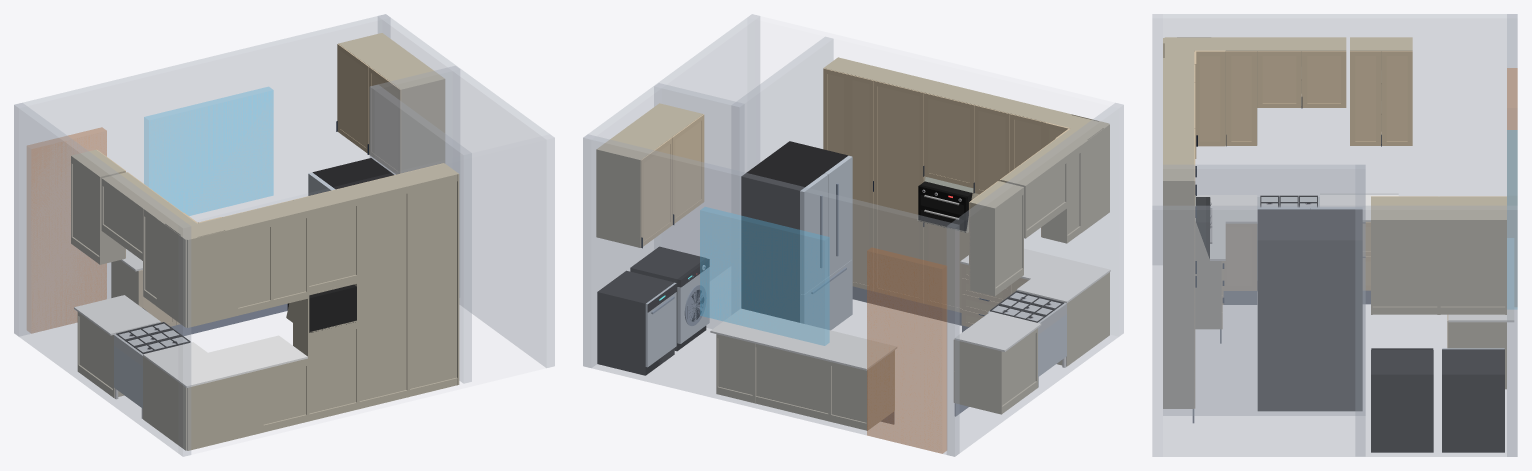
Rendered from Jacqueline.glb.
The picture shows the model from 3 angles, left to right: view 1: azimuth 30°, elevation 25°; view 2: azimuth 150°, elevation 25°; view 3: azimuth 270°, elevation 25°; orthographic projection. The views are drawn at different scales.
Parts seen in each view (by area): view 1: Mesh (×11), Backplane (×11), Corner_Back_Left (×2), Worktop (×3), Top_Solid_Cap (×6), Right (×2), Corner_Back_Right (×2), Door_1 (×2), Left (×4), Corner_Stile_2 (×2), Corner_Stile_1 (×2), Corner_Top_1 (+1 smaller); view 2: Mesh (×19), Door_1 (×8), Backplane (×7), Worktop (×4), Right (×3), Left (×2), Corner_Back_Right (×2), Top_Solid_Cap (×5), Door_2, Dor_Stile_R_1, Dor_Stile_L_0, Dor_Stile_R_0 (+3 smaller); view 3: Mesh (×12), Backplane (×2), Left (×2), Top_Solid_Cap (×9), Door_2 (×4), Door_1 (×3), Worktop (×4), Right, UpperBack (×2), BottomBack (×2), Dor_Stile_L_0 (×2), Dor_Stile_R_0 (×2) (+6 smaller).
Boxes of the visible parts, x1,y1,x2,y2 form: Mesh (×11): (14,14,554,456); Backplane (×11): (73,160,456,424); Corner_Back_Left (×2): (187,229,260,450); Worktop (×3): (74,295,307,387); Top_Solid_Cap (×6): (104,34,456,209); Right (×2): (286,78,445,333); Corner_Back_Right (×2): (149,220,184,445); Door_1 (×2): (338,44,401,170); Left (×4): (99,163,459,397); Corner_Stile_2 (×2): (187,237,197,450); Corner_Stile_1 (×2): (224,228,260,435); Corner_Top_1: (173,218,234,239); Mesh (×19): (583,14,1123,456); Door_1 (×8): (640,68,1044,307); Backplane (×7): (718,149,1079,422); Worktop (×4): (710,248,1110,370); Right (×3): (955,149,1067,414); Left (×2): (596,149,894,430); Corner_Back_Right (×2): (1067,125,1109,366); Top_Solid_Cap (×5): (599,58,1063,184); Door_2: (849,74,872,285); Dor_Stile_R_1: (869,84,873,286); Dor_Stile_L_0: (873,85,877,287); Dor_Stile_R_0: (919,96,923,298); Mesh (×12): (1152,14,1517,456); Backplane (×2): (1372,227,1505,306); Left (×2): (1163,180,1221,408); Top_Solid_Cap (×9): (1165,38,1505,218); Door_2 (×4): (1195,50,1412,285); Door_1 (×3): (1226,51,1380,140); Worktop (×4): (1196,193,1513,322); Right: (1448,322,1506,389); UpperBack (×2): (1372,219,1505,227); BottomBack (×2): (1372,306,1505,314); Dor_Stile_L_0 (×2): (1226,56,1355,141); Dor_Stile_R_0 (×2): (1251,56,1381,141).
Size of the model in its own units: 4.43 by 2.75 by 3.49.
